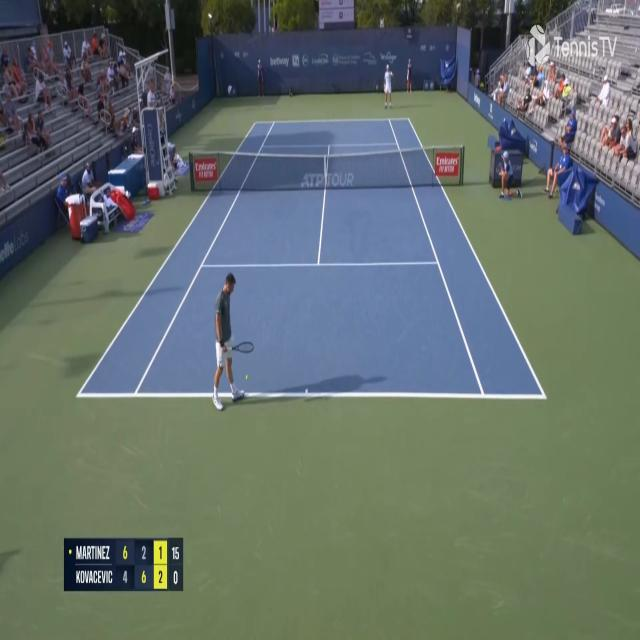tennis-player: (209, 268, 257, 415), (382, 63, 394, 108)
